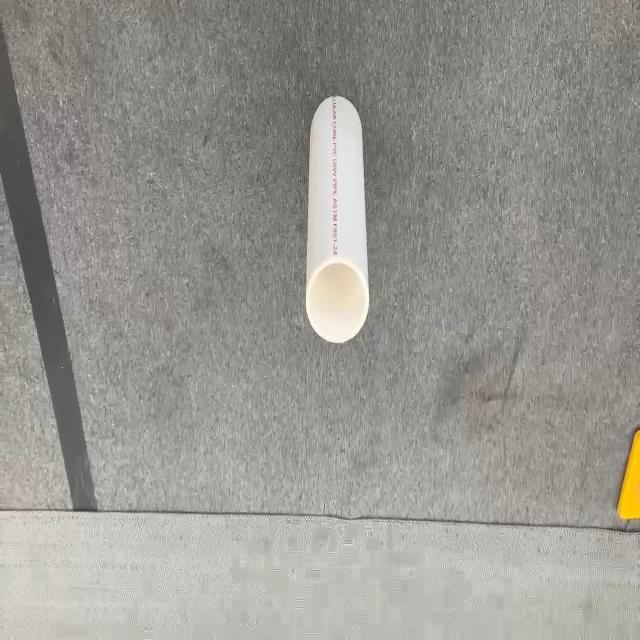coral: (304, 93, 370, 343)
